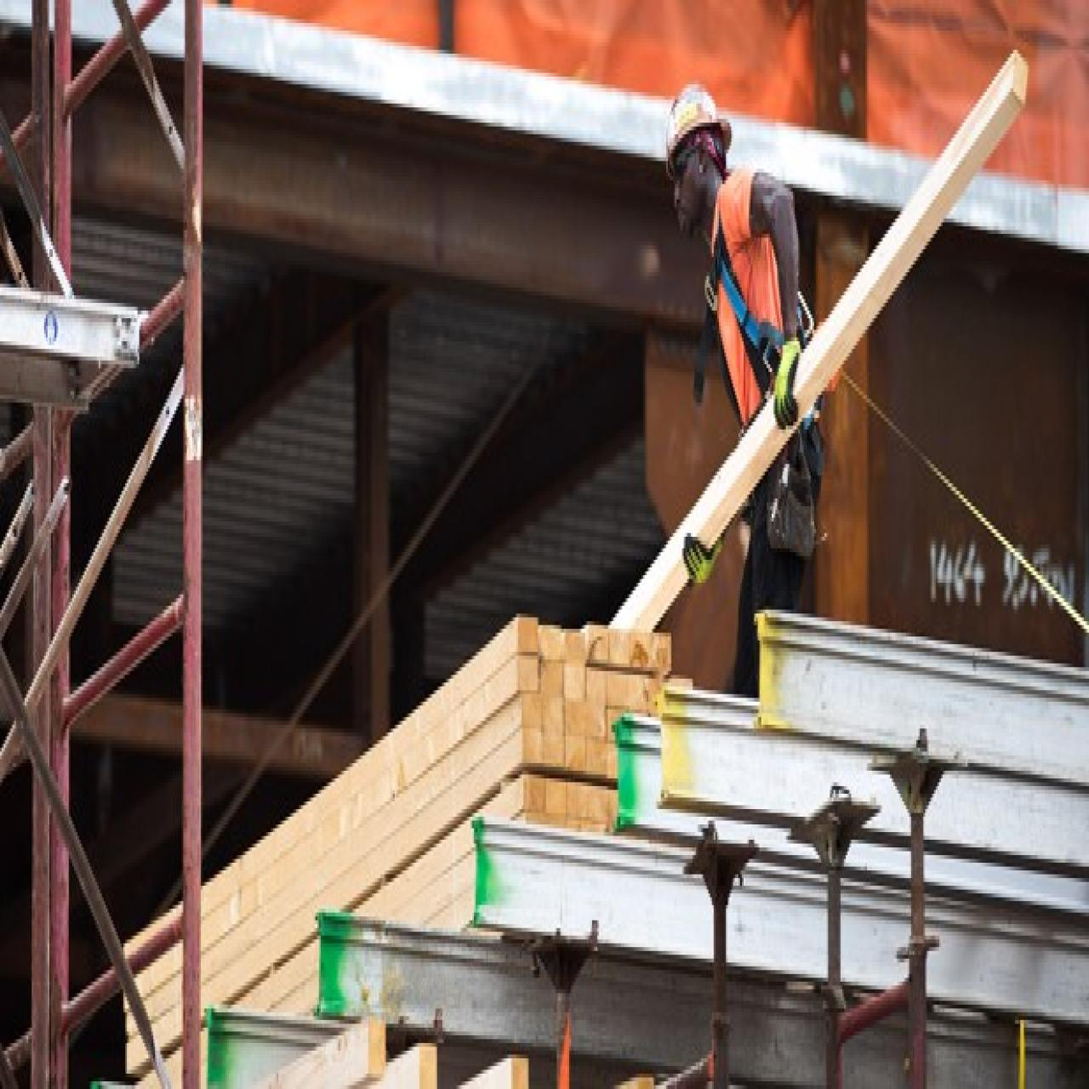NO_Safety_Vest: (702, 158, 808, 441)
Person: (654, 38, 851, 725)
